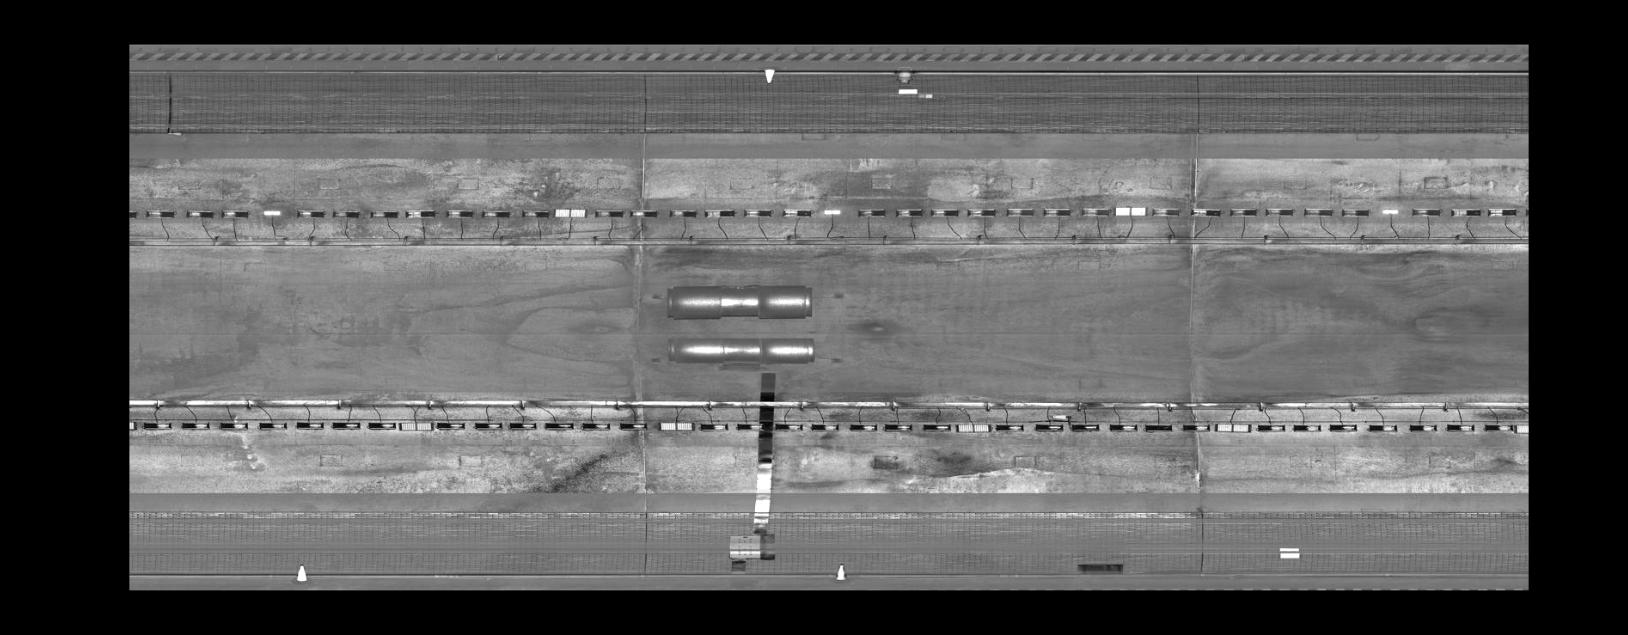light: (1077, 204, 1112, 219), (1213, 421, 1253, 434), (397, 420, 436, 433), (401, 208, 437, 221), (953, 421, 992, 434), (656, 420, 694, 433), (1301, 205, 1334, 219), (553, 208, 589, 220), (964, 206, 999, 219), (1113, 205, 1148, 218), (368, 208, 400, 221), (591, 208, 625, 220), (1189, 206, 1223, 219), (701, 208, 737, 219), (1447, 208, 1484, 219), (1324, 421, 1360, 433), (519, 208, 552, 220), (1039, 206, 1073, 219), (1263, 206, 1296, 219), (1485, 208, 1520, 219), (139, 419, 174, 431), (1443, 421, 1478, 433), (219, 208, 251, 220), (329, 208, 361, 220), (480, 208, 512, 220), (1004, 206, 1036, 219), (919, 420, 951, 433), (293, 208, 327, 219), (927, 208, 961, 219), (1141, 421, 1175, 433), (443, 208, 474, 220), (183, 208, 216, 219), (627, 208, 660, 219), (666, 208, 699, 219), (740, 208, 774, 219), (733, 421, 766, 433), (1179, 421, 1213, 433), (144, 208, 177, 219), (893, 208, 925, 219), (1150, 206, 1183, 218), (1226, 206, 1258, 218), (365, 419, 398, 431), (809, 421, 841, 433), (881, 421, 914, 433), (1068, 421, 1101, 433), (1409, 208, 1444, 218), (1288, 422, 1324, 433), (1406, 422, 1441, 433), (854, 208, 889, 218), (1339, 208, 1371, 219), (329, 420, 363, 431), (698, 421, 729, 433), (772, 421, 804, 433), (847, 421, 878, 433), (1106, 422, 1140, 433), (1365, 422, 1400, 433), (780, 208, 813, 218), (255, 420, 289, 431), (294, 420, 327, 431), (618, 421, 651, 432), (1031, 422, 1064, 433), (1481, 422, 1514, 433), (993, 422, 1025, 433), (1255, 423, 1287, 434), (541, 421, 576, 431), (177, 421, 211, 431), (217, 421, 251, 431), (473, 420, 504, 431), (433, 421, 466, 431), (578, 421, 612, 431), (259, 208, 284, 218), (507, 421, 537, 430), (1378, 208, 1403, 216), (822, 208, 843, 217), (1514, 423, 1528, 433), (130, 208, 139, 220), (130, 417, 137, 433)
